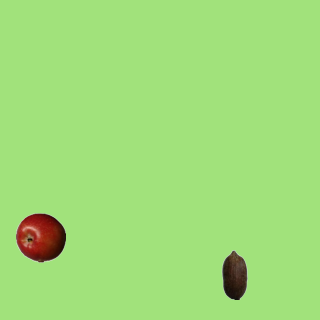Apple Braeburn: (15, 212, 65, 262)
Nut Pecan: (209, 249, 259, 299)
